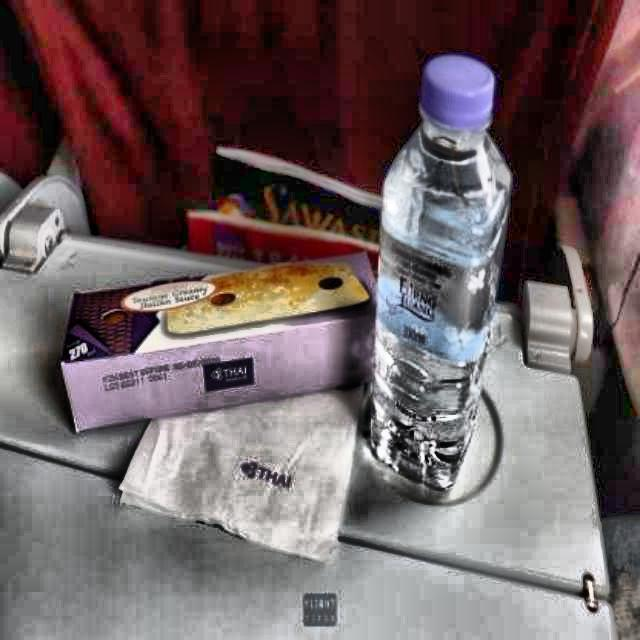Bottles: (354, 42, 516, 492)
